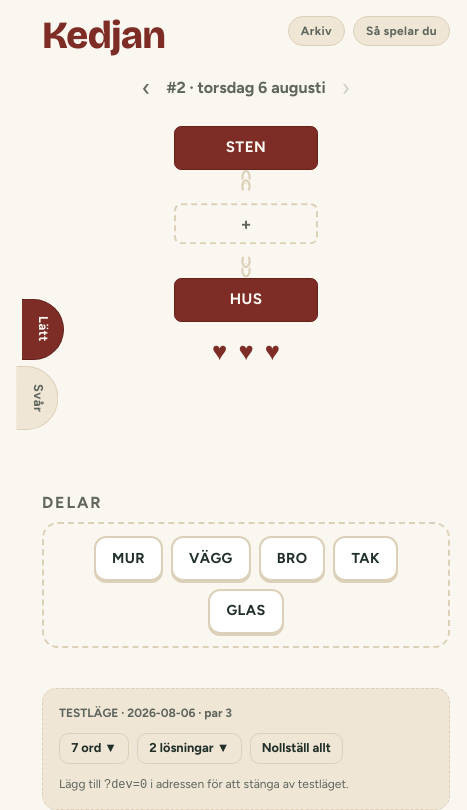
building the chain › refuses a part that sticks to neither neighbour, and charges a life
Click the button with aria-label "glas.". click: (246, 611)
box: [208,589,284,634]
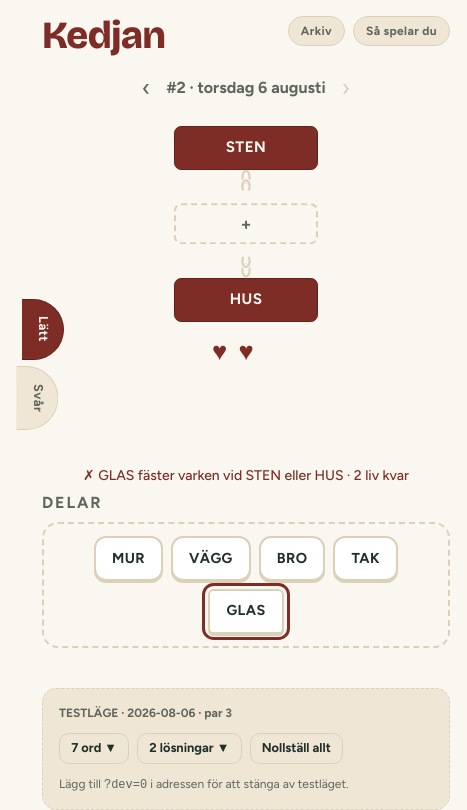
Now the message shows "GLAS fäster varken vid STEN eller HUS · 2 liv kvar", box [98,467,409,484]
